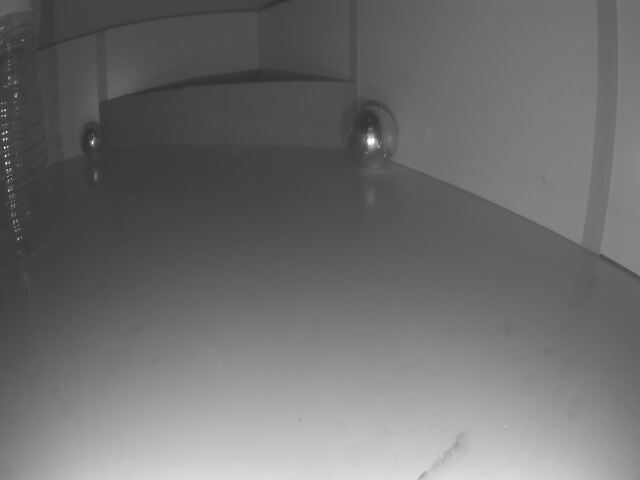Live: (342, 101, 399, 174), (81, 117, 115, 160)
Point: (103, 71, 357, 150)
